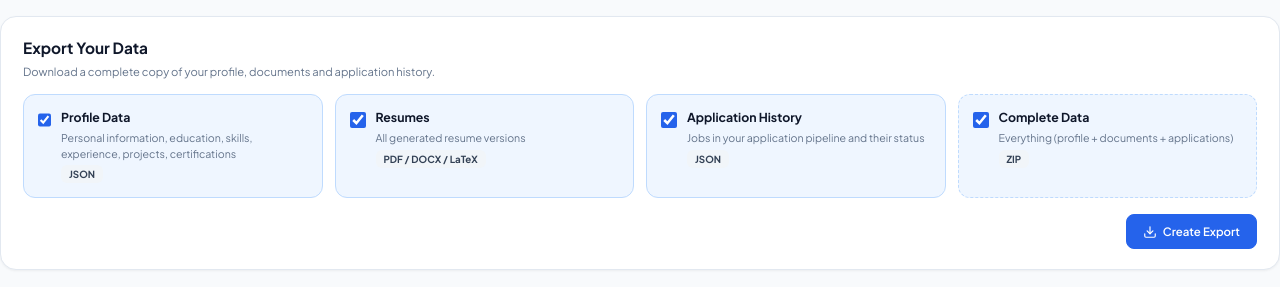
Scenario: DataExport › Complete Data toggles everything and disables export when empty
The width and height of the screenshot is (1280, 287).
Click the checkbox labelled "Complete Data".
click(980, 120)  # box [972,112,988,128]
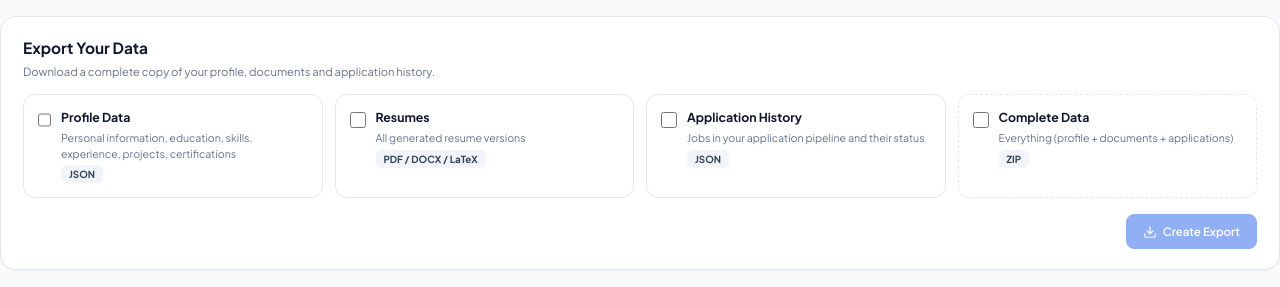
Check: the checkbox labelled "Profile Data" is not checked, box [38,112,51,128]
Check: the button "Create Export" is disabled, box [1126,214,1257,250]
